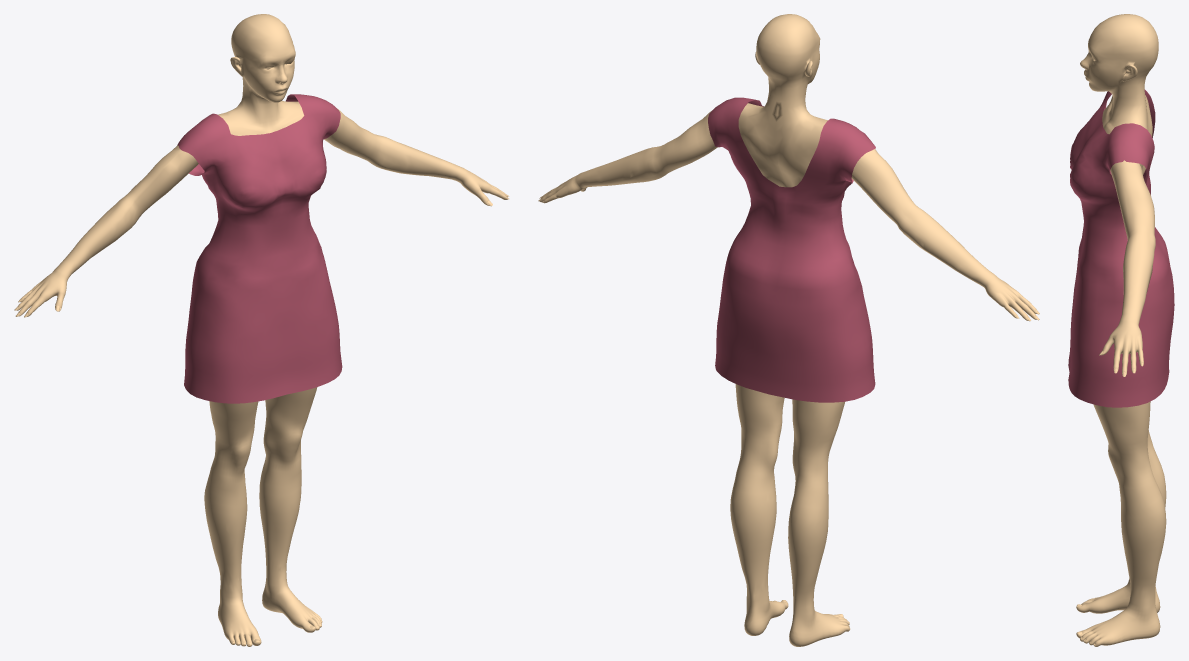
Rendered from dress7.glb.
3 views of the same model, side by side, from view 1: azimuth 30°, elevation 25°; view 2: azimuth 150°, elevation 25°; view 3: azimuth 270°, elevation 25° (orthographic).
Parts seen in each view (by area): view 1: Jennifer.F_Dress_01, Body; view 2: Body, Jennifer.F_Dress_01; view 3: Body, Jennifer.F_Dress_01.
Part boxes in pixels (x1,y1,x2,y2): Jennifer.F_Dress_01: (177,94,342,403); Body: (17,14,508,646); Body: (539,14,1037,646); Jennifer.F_Dress_01: (708,97,875,402); Body: (1076,14,1166,646); Jennifer.F_Dress_01: (1068,89,1174,407).
Size of the model in its own units: 1.58 by 1.85 by 0.2918.
